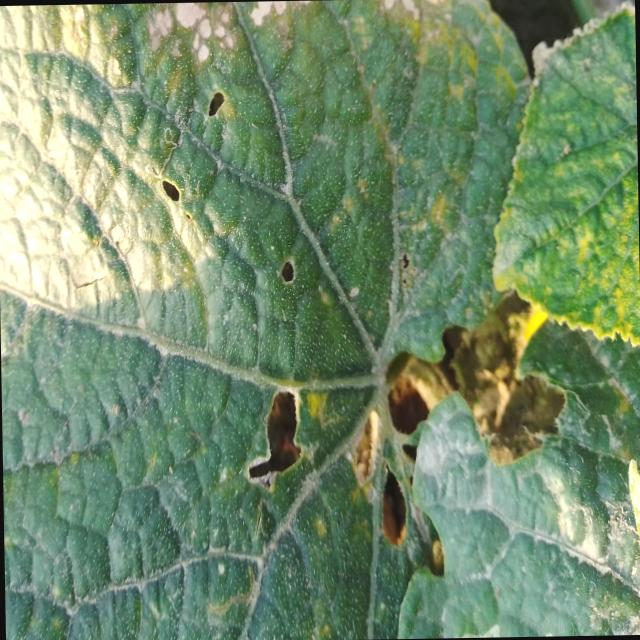cucumber_anthracnose: (140, 21, 558, 579)
